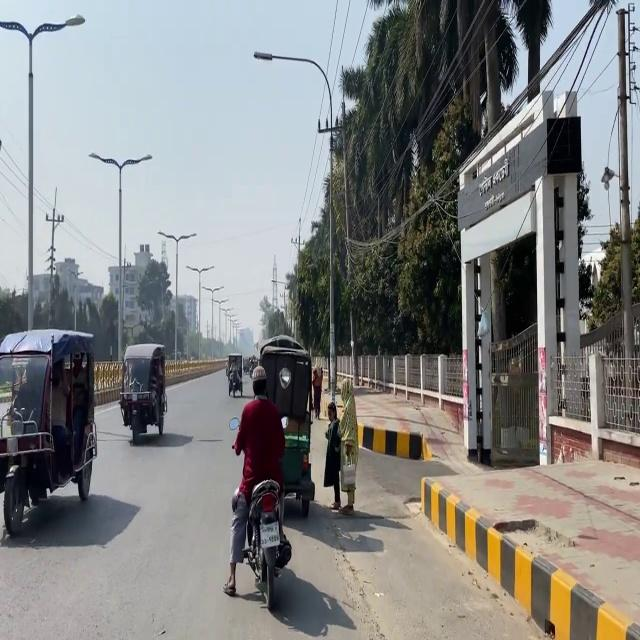Construction-barrier: (419, 470, 638, 639), (356, 422, 432, 461), (163, 358, 227, 386)
Fallen-tree: (239, 478, 292, 610), (226, 366, 242, 397)
Garbage-bin: (222, 365, 290, 595), (323, 402, 341, 509), (311, 367, 323, 419)
Pothole: (326, 380, 640, 640)
Traffic-cone: (0, 327, 97, 535), (118, 342, 167, 443)
